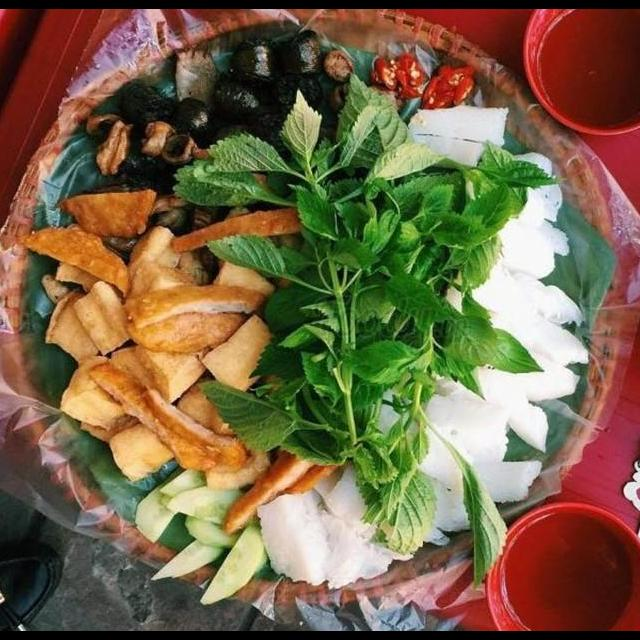bun: (374, 347, 584, 534), (467, 146, 607, 369), (253, 459, 411, 594), (402, 99, 517, 168)
bun dau: (38, 44, 628, 605)
cha com: (90, 357, 253, 472), (217, 440, 354, 541), (20, 219, 134, 293), (118, 280, 266, 332), (170, 202, 308, 257), (56, 182, 158, 246)
dau hu: (36, 267, 134, 371), (194, 309, 286, 393), (125, 333, 210, 403), (58, 355, 136, 429), (108, 421, 175, 482)
doi sun: (71, 24, 366, 191)
